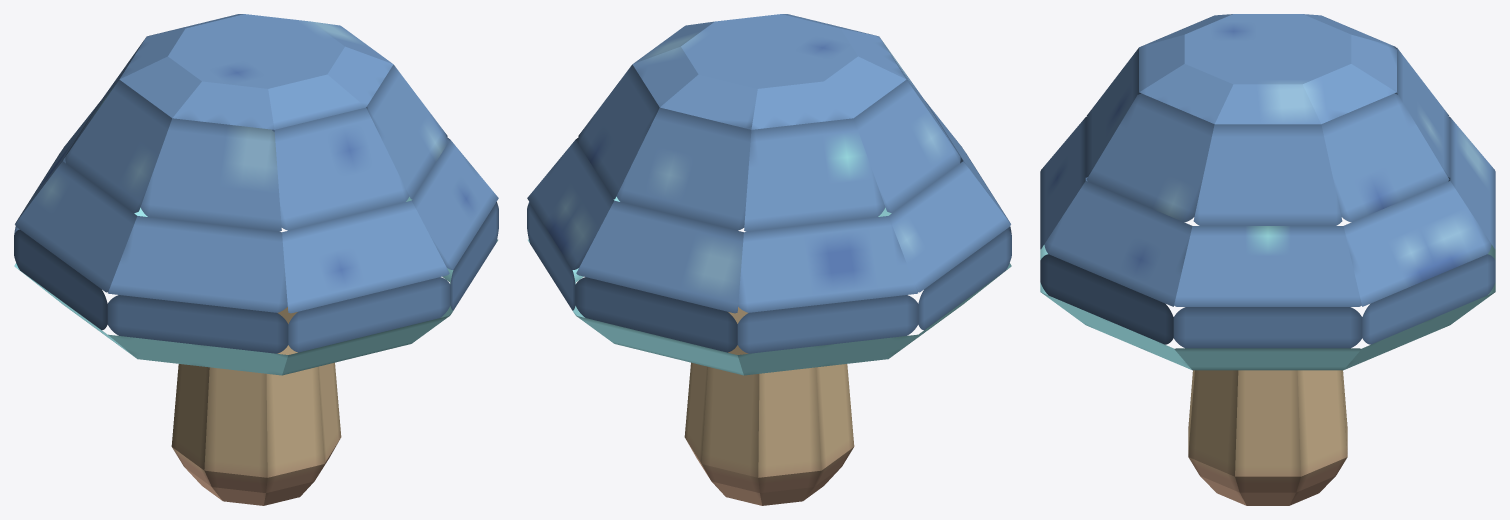
Rendered from mushroom.fbx.
3 views of the same model, side by side, from view 1: azimuth 30°, elevation 25°; view 2: azimuth 150°, elevation 25°; view 3: azimuth 270°, elevation 25° (orthographic).
Parts seen in each view (by area): view 1: mushroom; view 2: mushroom; view 3: mushroom.
Boxes of the visible parts, <box> form: mushroom: <box>14,14,498,505</box>; mushroom: <box>527,14,1011,505</box>; mushroom: <box>1040,14,1495,505</box>.
Size of the model in its own units: 125 by 135 by 125.
